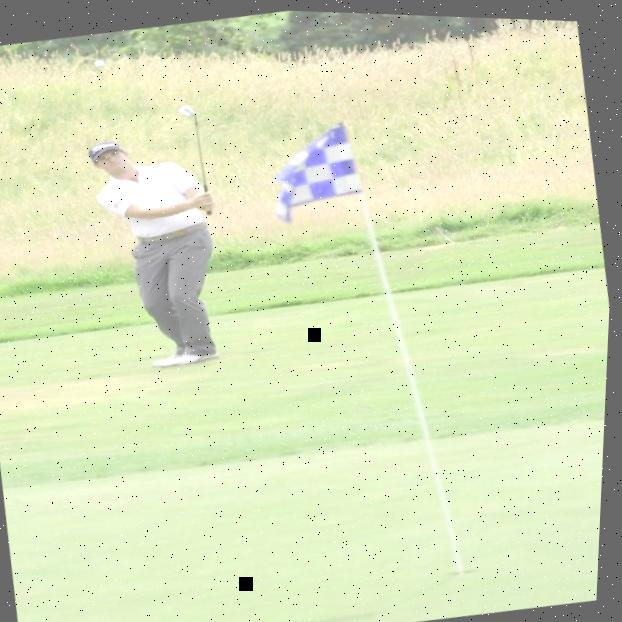ClubHead: (167, 93, 221, 129)
GolfBall: (88, 53, 117, 70)
